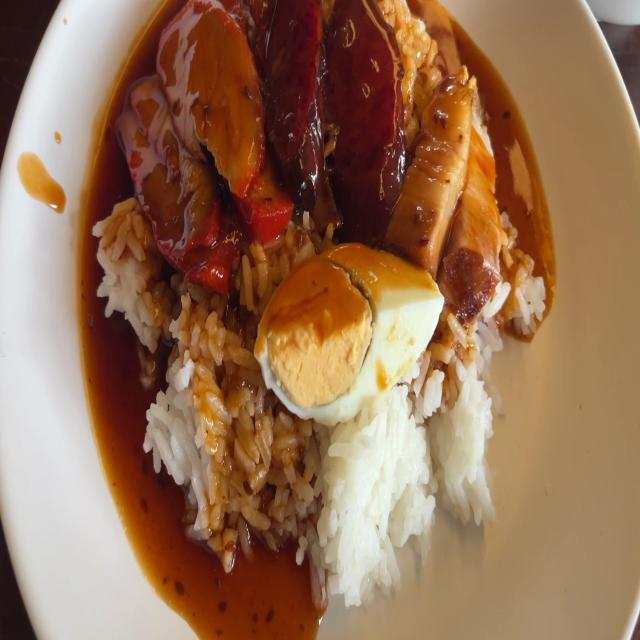red_pork_and_crispy_pork: (267, 243, 439, 424)
stir_fried_basil: (268, 0, 404, 230), (335, 0, 400, 225), (267, 0, 330, 215)
